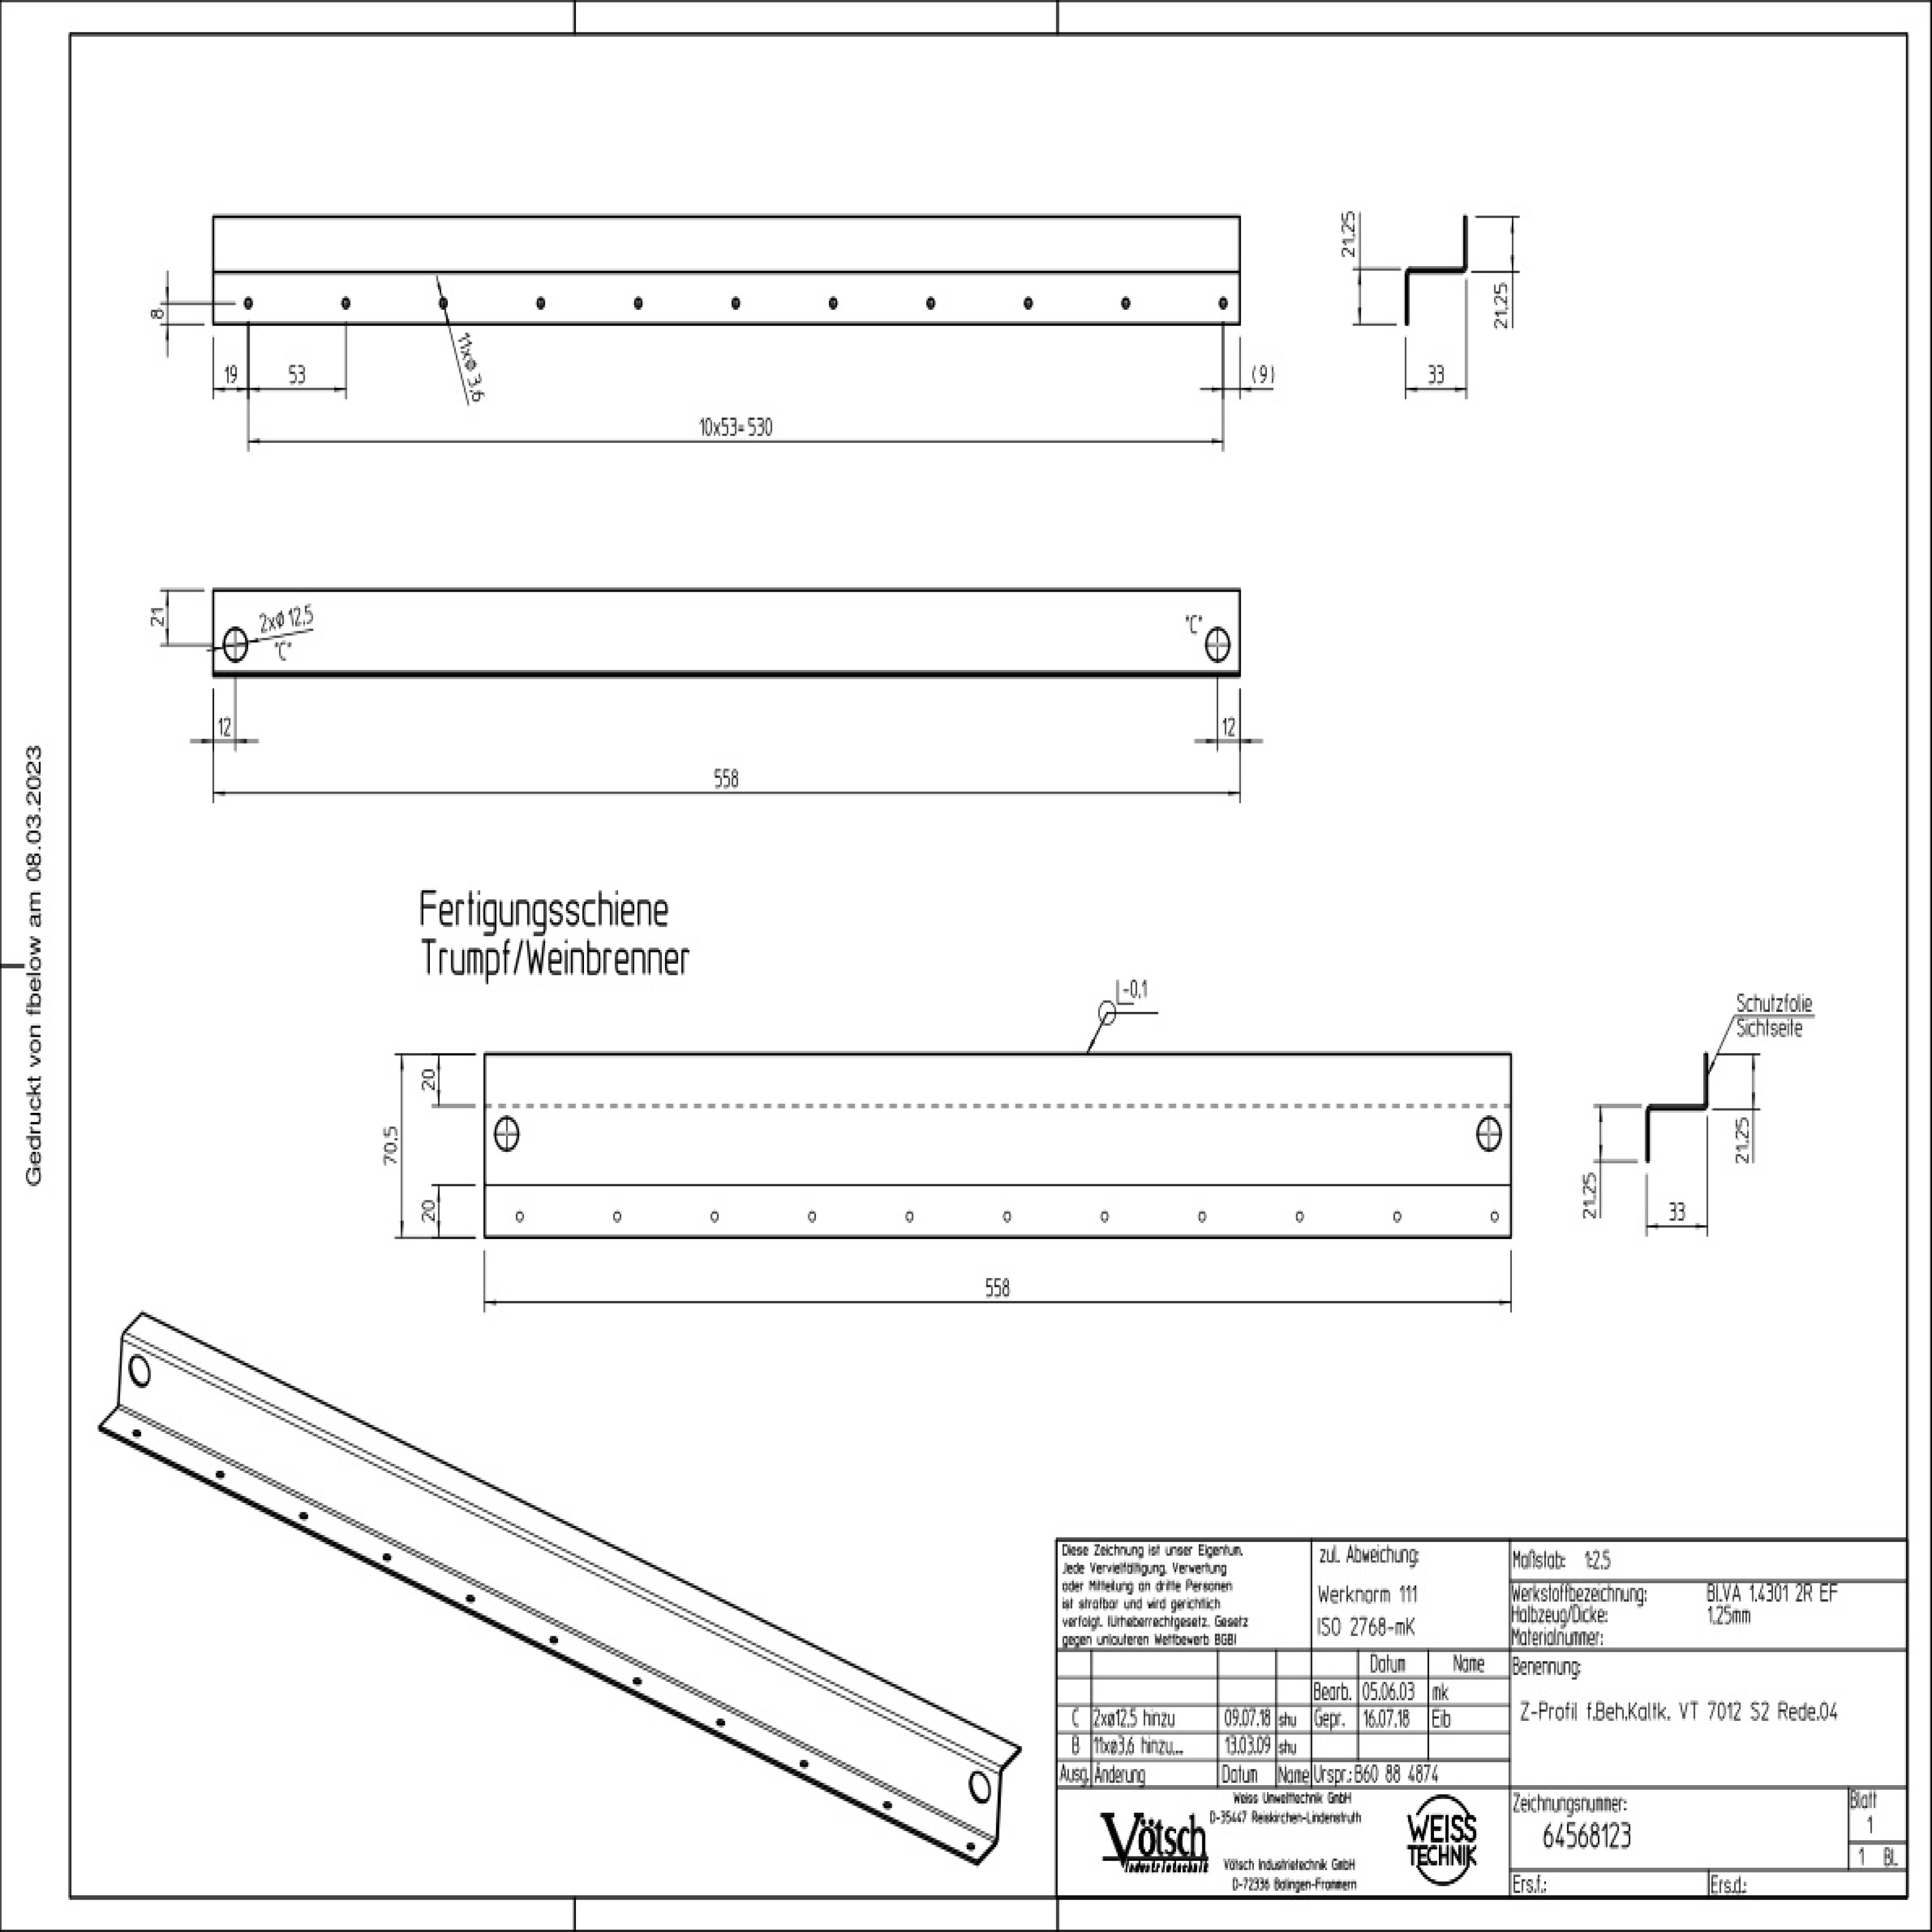InnerContour: (1476, 1113, 1506, 1155), (223, 625, 253, 665), (966, 1767, 993, 1812), (494, 1115, 524, 1154), (127, 1352, 154, 1392), (1205, 625, 1230, 662)
